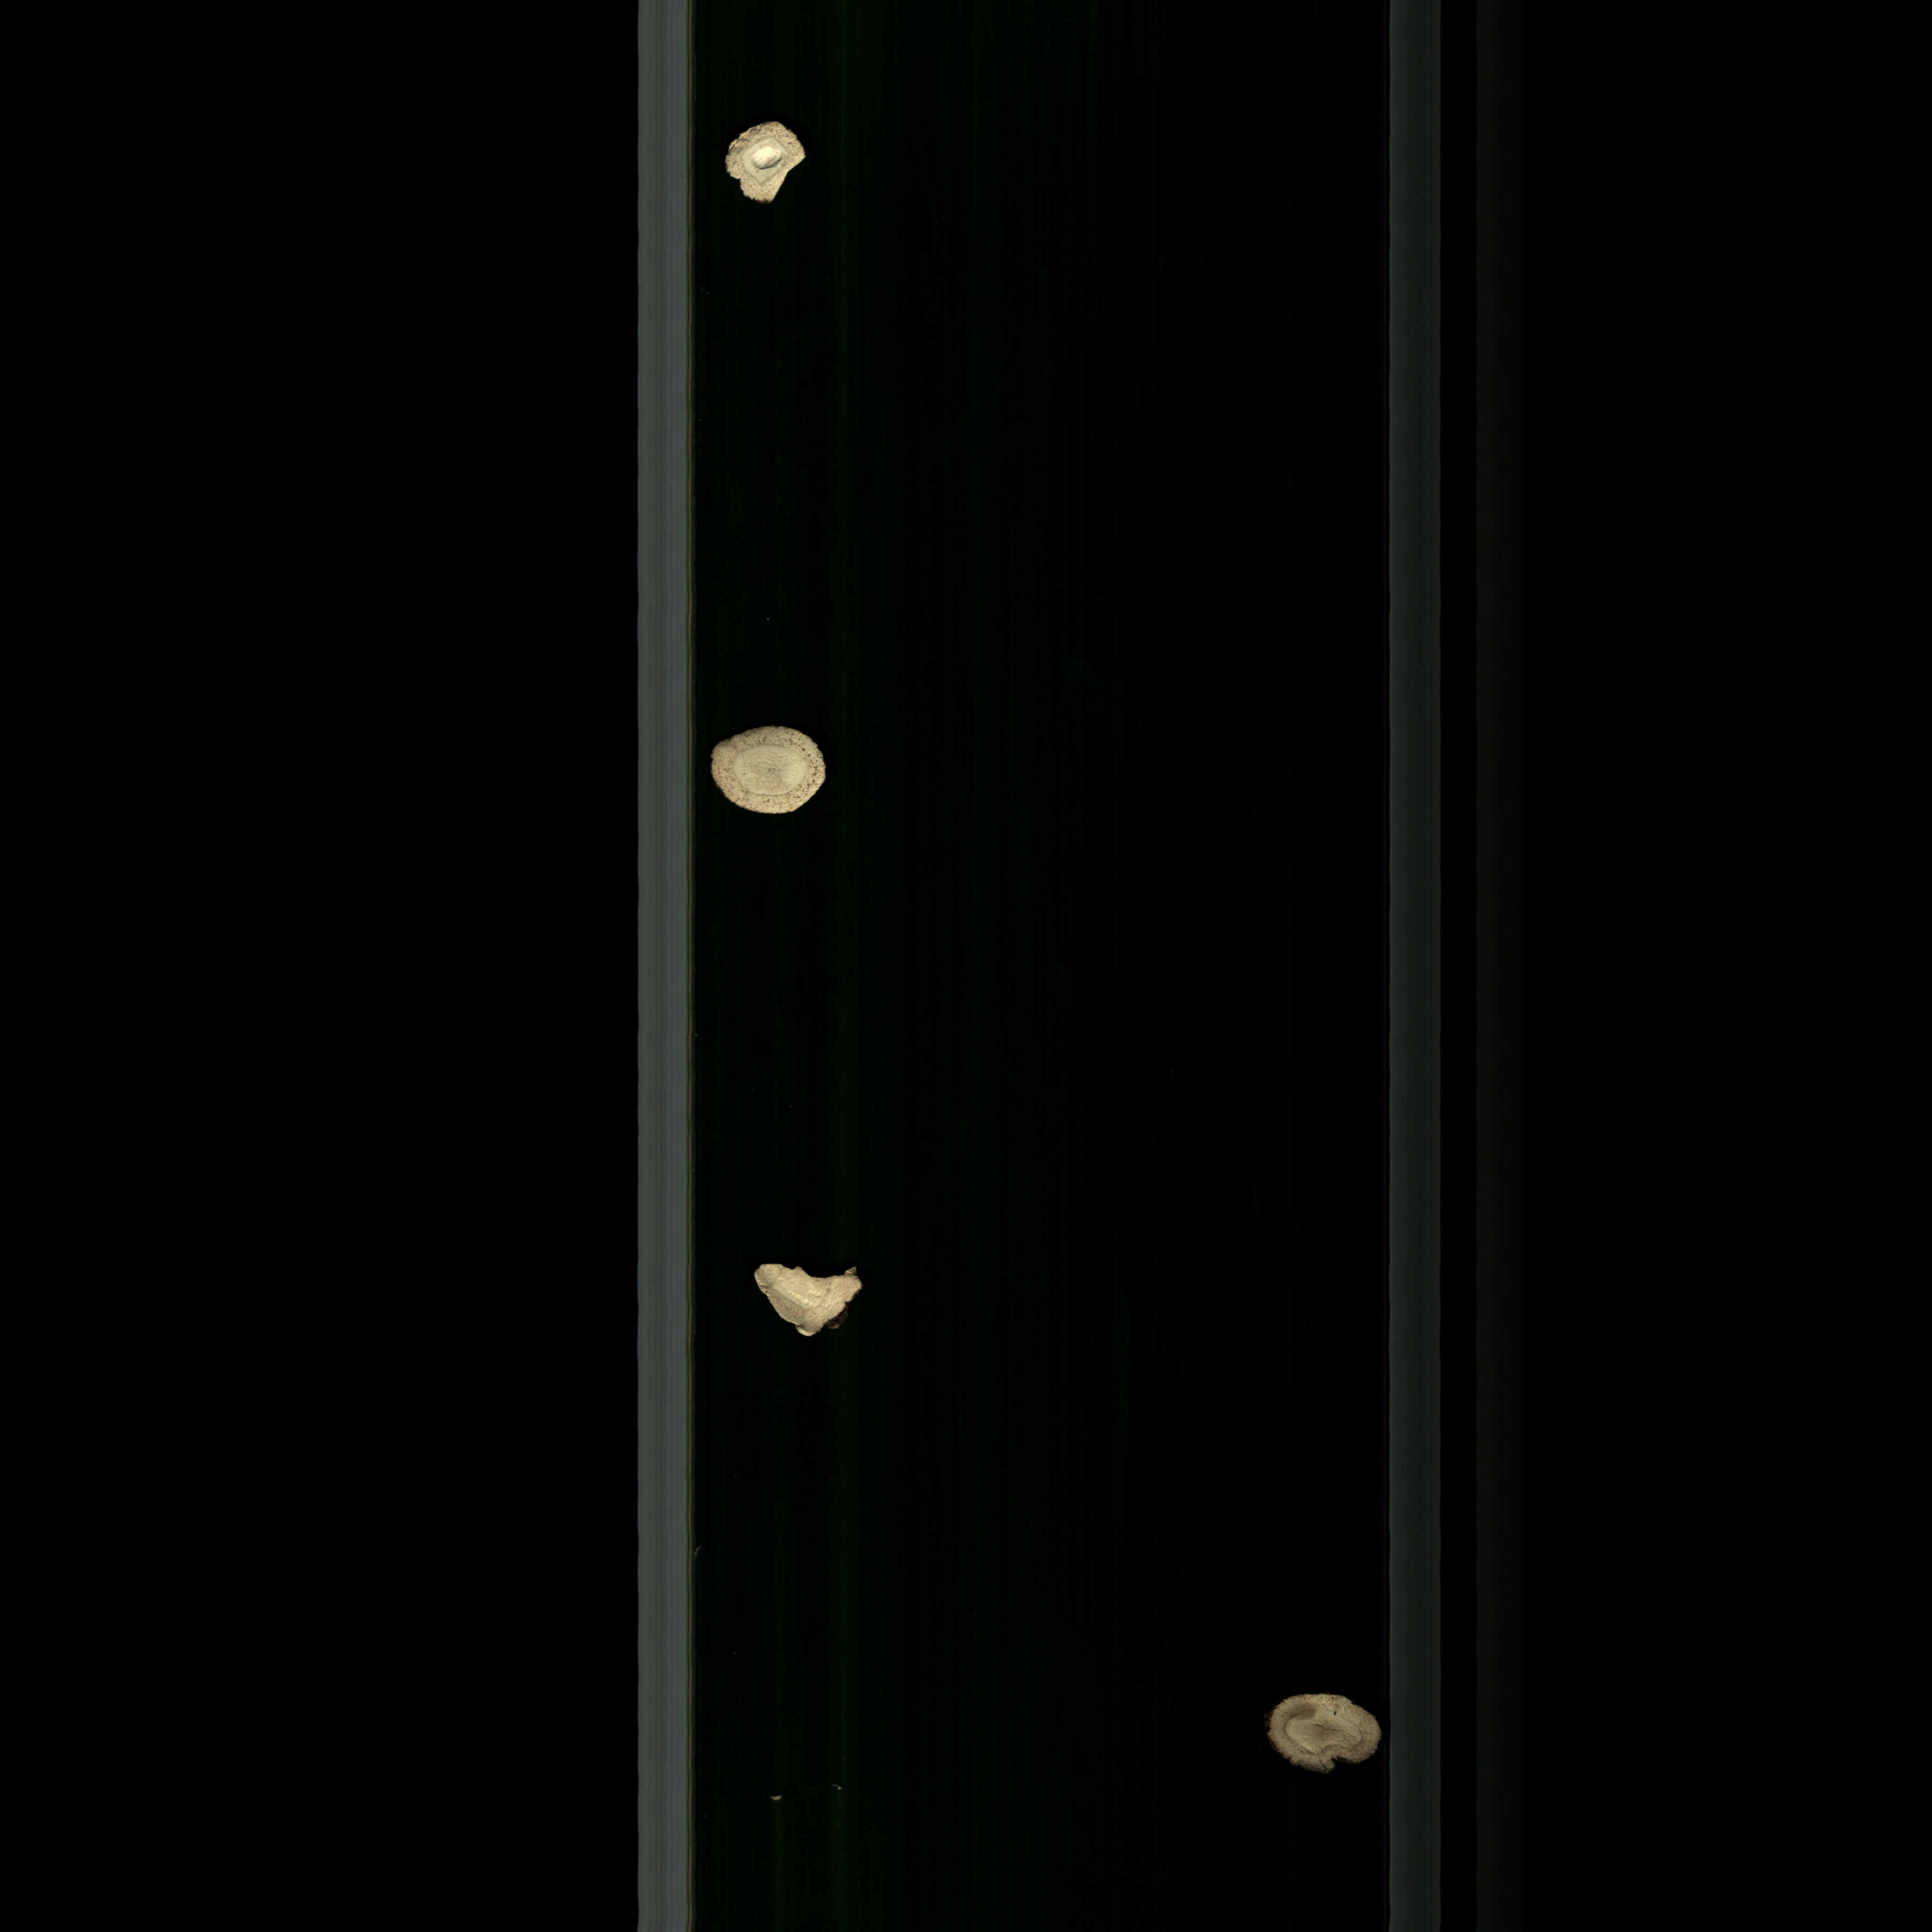debris: (725, 1244, 879, 1353), (713, 117, 823, 219)
moldy: (1247, 1679, 1391, 1794)
